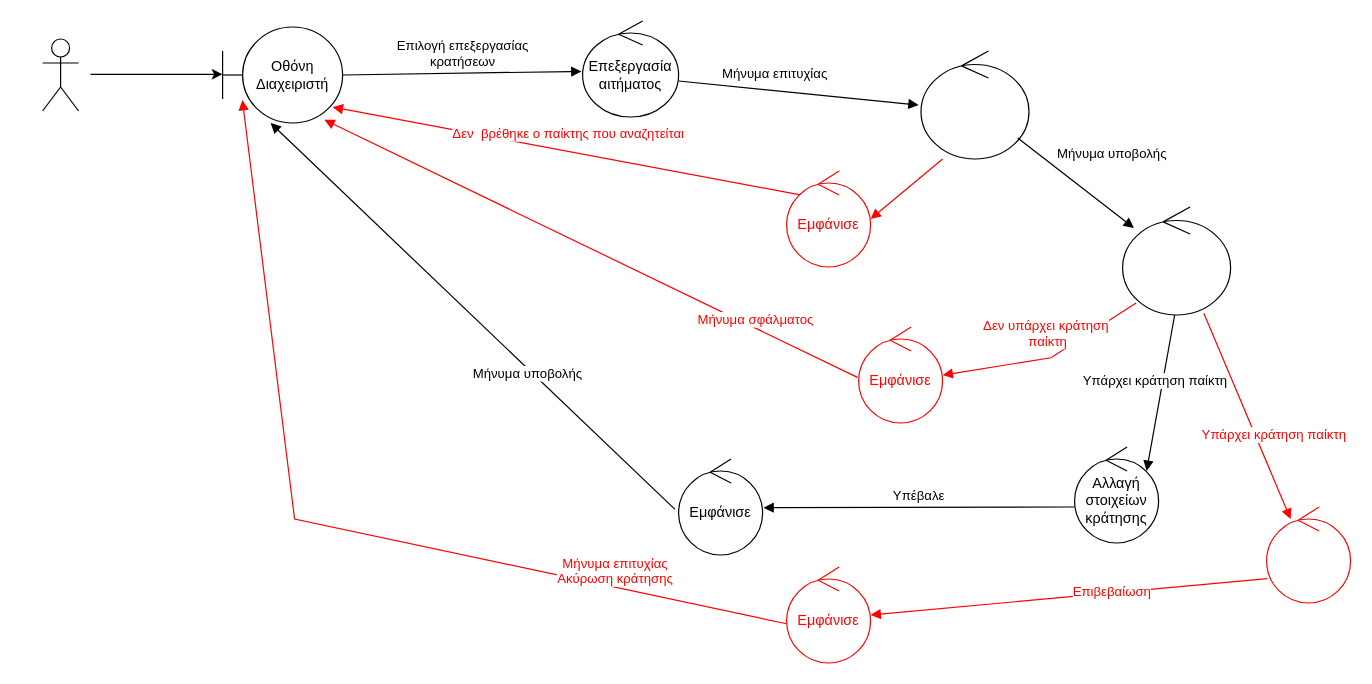
Image size: 1372x684. Some labels were removed from this diagram. Here are the shapes that lost their labels. From the top down, the centre of each, then its label:
At pixel 60 74: "Διαχειριστής".
At pixel 974 104: "Αναζήτηση κράτησης παίκτη".
At pixel 1176 260: "Βρέθηκε;".
At pixel 1308 554: "Ακύρωση κράτησης".
